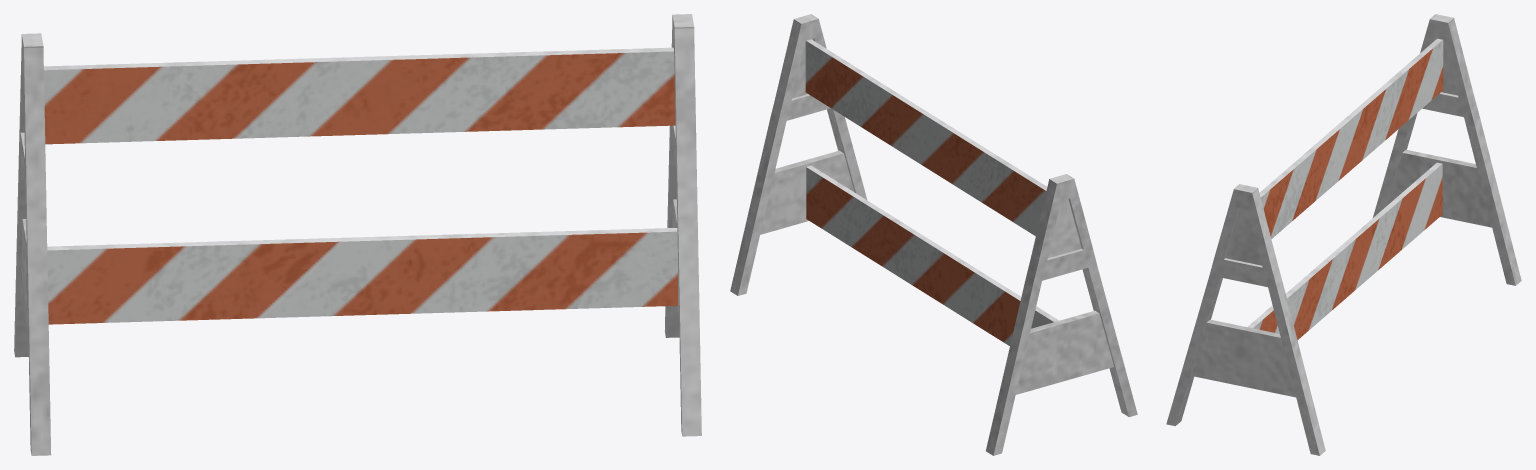
Rendered from A_Barricade2L.fbx.
3 renders of one model, left to right at view 1: azimuth 30°, elevation 25°; view 2: azimuth 150°, elevation 25°; view 3: azimuth 270°, elevation 25°, orthographic. The views are drawn at different scales.
Visible parts, largest first — view 1: A_Barricade2L; view 2: A_Barricade2L; view 3: A_Barricade2L.
Part boxes in pixels (x1,y1,x2,y2): A_Barricade2L: [14, 14, 701, 455]; A_Barricade2L: [730, 14, 1137, 455]; A_Barricade2L: [1166, 14, 1521, 455].
Size of the model in its own units: 200 by 113 by 146.
